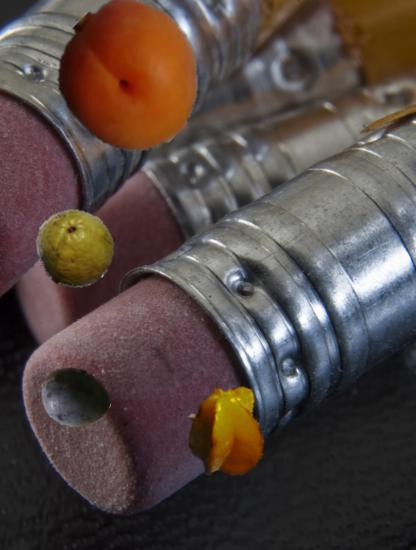Apricot: (57, 1, 206, 150)
Carambula: (177, 382, 276, 481)
Guava: (34, 209, 114, 289)
Plum: (39, 362, 112, 435)
